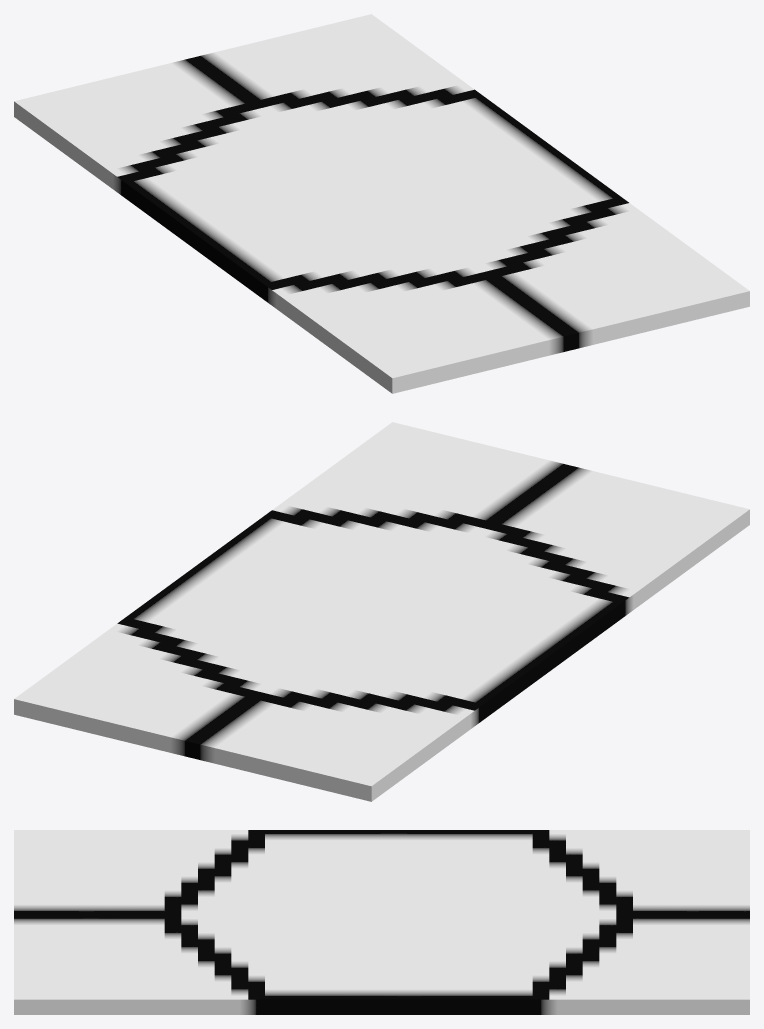
The model's file is Hexagon.dae.
3 views of the same model, one above another, from view 1: azimuth 30°, elevation 25°; view 2: azimuth 150°, elevation 25°; view 3: azimuth 270°, elevation 25° (orthographic). The views are drawn at different scales.
Parts seen in each view (by area): view 1: Matrix, Matrix_2, Matrix_1, Matrix_3, Matrix_4; view 2: Matrix, Matrix_2, Matrix_3, Matrix_1, Matrix_4; view 3: Matrix, Matrix_1, Matrix_4, Matrix_2, Matrix_3.
Boxes of the visible parts, x1=… form: Matrix: x1=125, y1=93, x2=620, y2=298; Matrix_2: x1=263, y1=275, x2=571, y2=393; Matrix_1: x1=494, y1=196, x2=749, y2=349; Matrix_3: x1=14, y1=57, x2=252, y2=198; Matrix_4: x1=193, y1=14, x2=482, y2=104; Matrix: x1=126, y1=514, x2=620, y2=719; Matrix_2: x1=494, y1=465, x2=749, y2=618; Matrix_3: x1=192, y1=696, x2=483, y2=801; Matrix_1: x1=263, y1=422, x2=570, y2=524; Matrix_4: x1=14, y1=617, x2=252, y2=757; Matrix: x1=164, y1=830, x2=632, y2=1014; Matrix_1: x1=14, y1=915, x2=264, y2=1014; Matrix_4: x1=532, y1=915, x2=749, y2=1014; Matrix_2: x1=14, y1=830, x2=264, y2=914; Matrix_3: x1=532, y1=830, x2=749, y2=914.
Size of the model in its own units: 24 by 1 by 44.
Materials: 1 (1 with a texture image).
